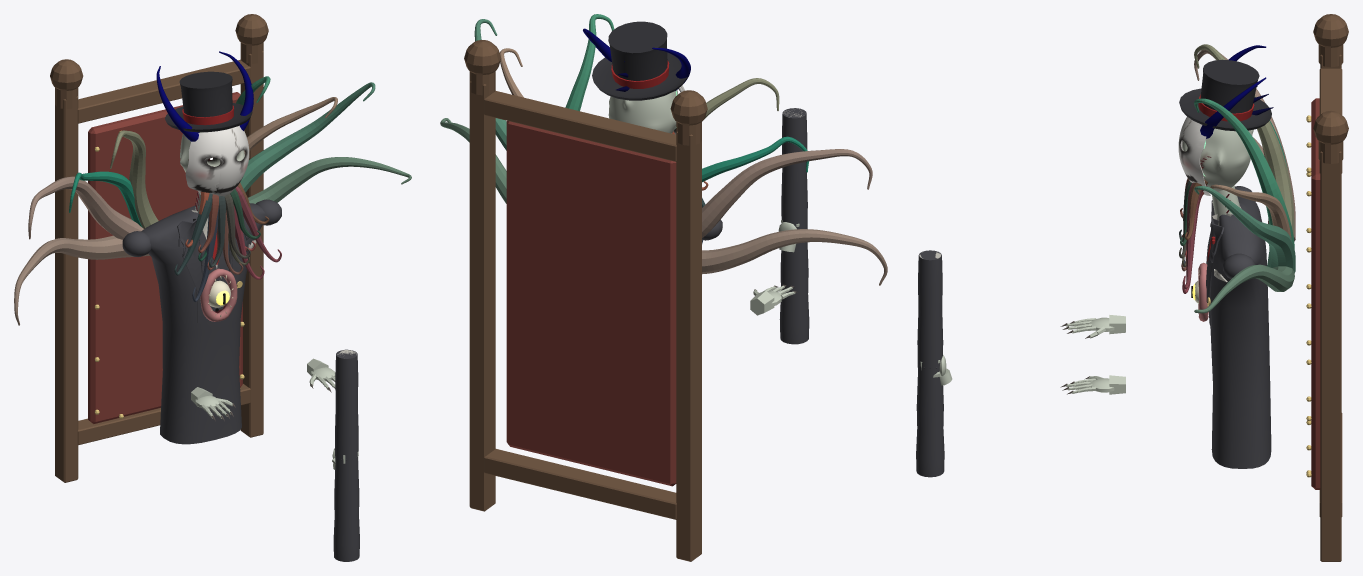
File: dealer.glb
3 renders of one model, left to right at view 1: azimuth 30°, elevation 25°; view 2: azimuth 150°, elevation 25°; view 3: azimuth 270°, elevation 25°, orthographic. The views are drawn at different scales.
Parts seen in each view (by area): view 1: Chair, Body, BackTentacles3, UpperArmL, Hat, Beard, BeardLong, BackTentacles2, MaskShard, Mask, Horns, ChestRift (+2 smaller); view 2: Chair, BackTentacles3, UpperArmL, Hat, Head, BackTentacles2, Horns, HandL; view 3: Chair, Body, BackTentacles3, UpperArmL, Hat, Head, Mask, BackTentacles2, Beard, HandL, HandR, Horns (+1 smaller).
Part boxes in pixels (box(x1,y1,x2,y2)): Chair: box(50, 14, 268, 482); Body: box(122, 192, 281, 444); BackTentacles3: box(14, 76, 411, 325); UpperArmL: box(333, 349, 359, 561); Hat: box(165, 71, 252, 132); Beard: box(185, 182, 269, 274); BeardLong: box(174, 186, 281, 301); BackTentacles2: box(69, 97, 337, 227); MaskShard: box(185, 130, 223, 192); Mask: box(198, 125, 249, 196); Horns: box(156, 51, 253, 141); ChestRift: box(200, 268, 237, 321); Chair: box(464, 40, 707, 561); BackTentacles3: box(440, 14, 887, 285); UpperArmL: box(779, 108, 809, 344); Hat: box(592, 21, 687, 100); Head: box(608, 89, 678, 133); BackTentacles2: box(500, 48, 808, 182); Horns: box(583, 28, 690, 91); HandL: box(750, 284, 796, 315); Chair: box(1306, 14, 1348, 561); Body: box(1206, 185, 1271, 468); BackTentacles3: box(1194, 44, 1295, 313); UpperArmL: box(916, 250, 944, 477); Hat: box(1179, 59, 1271, 131); Head: box(1182, 128, 1253, 191); Mask: box(1178, 117, 1210, 195); BackTentacles2: box(1210, 120, 1291, 239); Beard: box(1179, 178, 1207, 271); HandL: box(1060, 315, 1125, 338); HandR: box(1060, 375, 1125, 394); Horns: box(1200, 45, 1273, 138).
Size of the model in its own units: 2.06 by 2.07 by 1.81.
